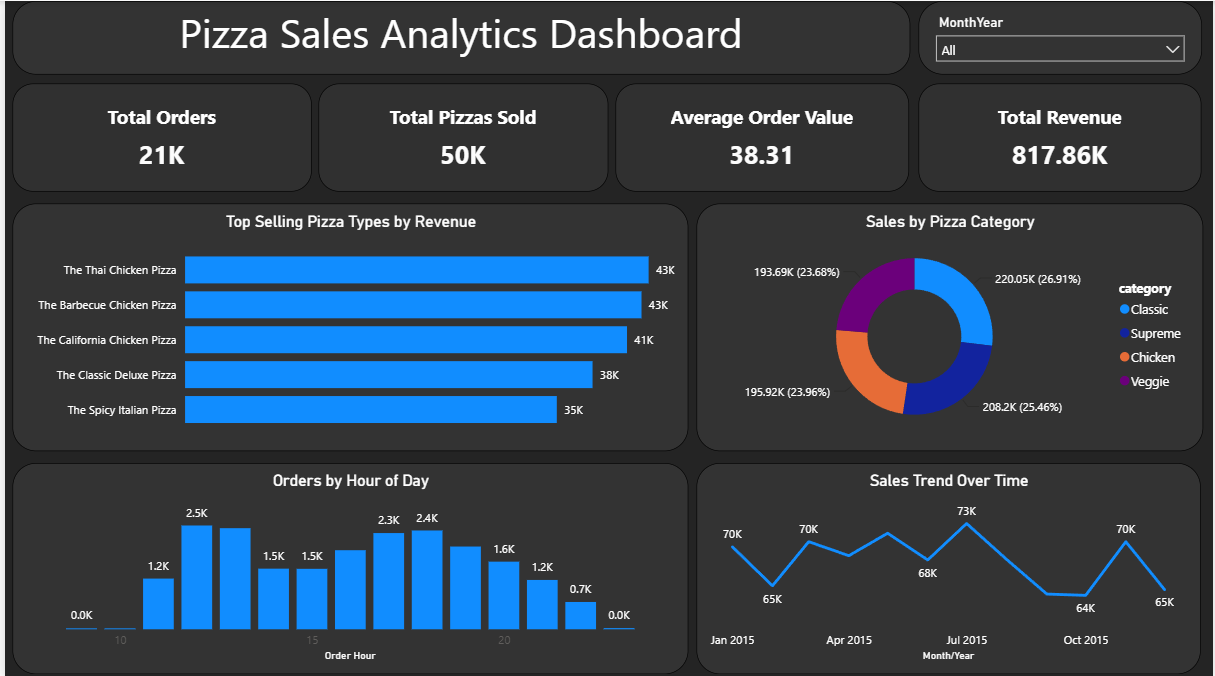

This screenshot's page, from the dashboard's own definition file:
{"tool":"powerbi","page":{"name":"Page 1","canvas":[1280,720],"ordinal":0},"visuals":[{"type":"cardVisual","fields":{"Data":["order_details.Total Orders"]},"box":[7.2,87.6,317.3,114.7],"z":0},{"type":"cardVisual","fields":{"Data":["order_details.Total Pizzas Sold"]},"box":[331.8,87.6,307.5,114.7],"z":1000},{"type":"cardVisual","fields":{"Data":["order_details.TotalRevenue"]},"box":[968.7,87.6,300.2,114.7],"z":2000},{"type":"cardVisual","fields":{"Data":["order_details.Average Order Value"]},"box":[647.9,87.1,311.4,114.8],"z":3000},{"type":"lineChart","title":"Sales Trend Over Time","fields":{"Y":["order_details.TotalRevenue"],"Category":["orders.date.Variation.Date Hierarchy.Year","orders.date.Variation.Date Hierarchy.Month"]},"box":[733.7,489.6,534.4,224.3],"z":4000},{"type":"clusteredBarChart","title":"Top Selling Pizza Types by Revenue","fields":{"Category":["pizza_types.name"],"Y":["order_details.TotalRevenue"]},"box":[7.9,215.1,716.5,262.6],"z":5000},{"type":"donutChart","title":"Sales by Pizza Category","fields":{"Y":["order_details.TotalRevenue"],"Category":["pizza_types.category"]},"box":[733.7,215.1,537.1,262.6],"z":6000},{"type":"clusteredColumnChart","title":"Orders by Hour of Day","fields":{"Category":["orders.Order Hour"],"Y":["order_details.Total Orders"]},"box":[7.9,489.6,716.5,224.3],"z":7000},{"type":"textbox","box":[7.5,0,952.2,78.2],"z":8000},{"type":"slicer","title":"Filter Dashboard by Month Year ","fields":{"Values":["orders.MonthYear"]},"box":[968,0,300.5,78],"z":9000}]}

Visuals, with their boxes in screenshot pixels (x1, y1, x2, y2), scaled from the page's 1280x720 canvas onto the 1215x676 screenshot:
cardVisual - order_details.Total Orders: {"left": 7, "top": 82, "right": 308, "bottom": 190}
cardVisual - order_details.Total Pizzas Sold: {"left": 315, "top": 82, "right": 607, "bottom": 190}
cardVisual - order_details.TotalRevenue: {"left": 920, "top": 82, "right": 1204, "bottom": 190}
cardVisual - order_details.Average Order Value: {"left": 615, "top": 82, "right": 911, "bottom": 190}
"Sales Trend Over Time" lineChart: {"left": 696, "top": 460, "right": 1204, "bottom": 670}
"Top Selling Pizza Types by Revenue" clusteredBarChart: {"left": 7, "top": 202, "right": 688, "bottom": 449}
"Sales by Pizza Category" donutChart: {"left": 696, "top": 202, "right": 1206, "bottom": 449}
"Orders by Hour of Day" clusteredColumnChart: {"left": 7, "top": 460, "right": 688, "bottom": 670}
textbox: {"left": 7, "top": 0, "right": 911, "bottom": 73}
"Filter Dashboard by Month Year " slicer: {"left": 919, "top": 0, "right": 1204, "bottom": 73}
